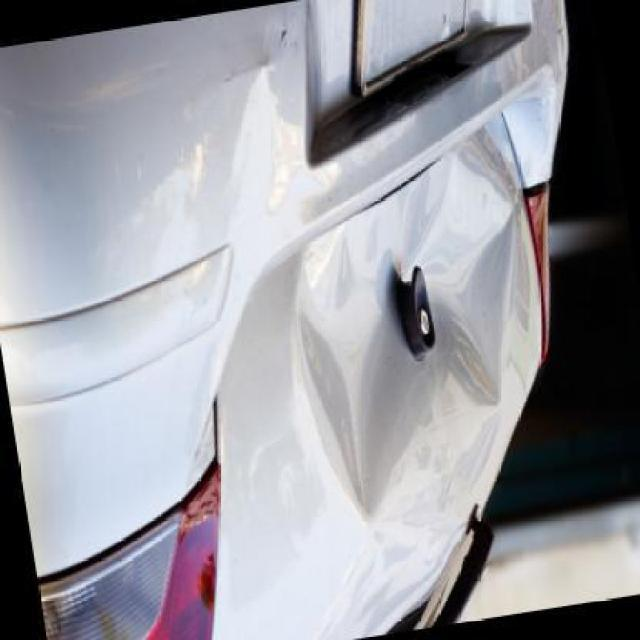dent: (295, 168, 477, 477)
